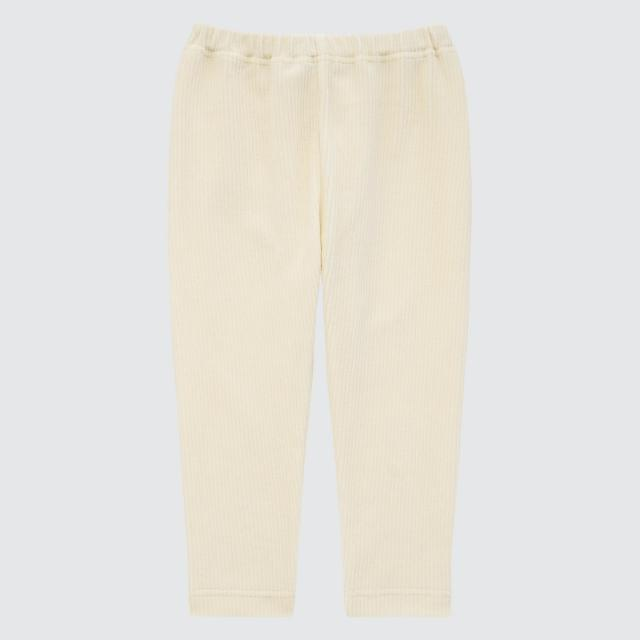long-pants: (166, 23, 474, 623)
